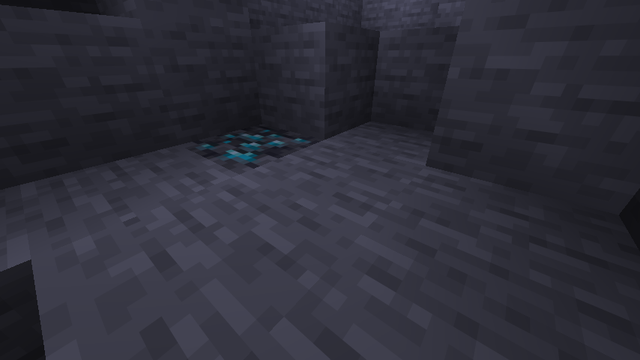diamond: (189, 120, 313, 170)
